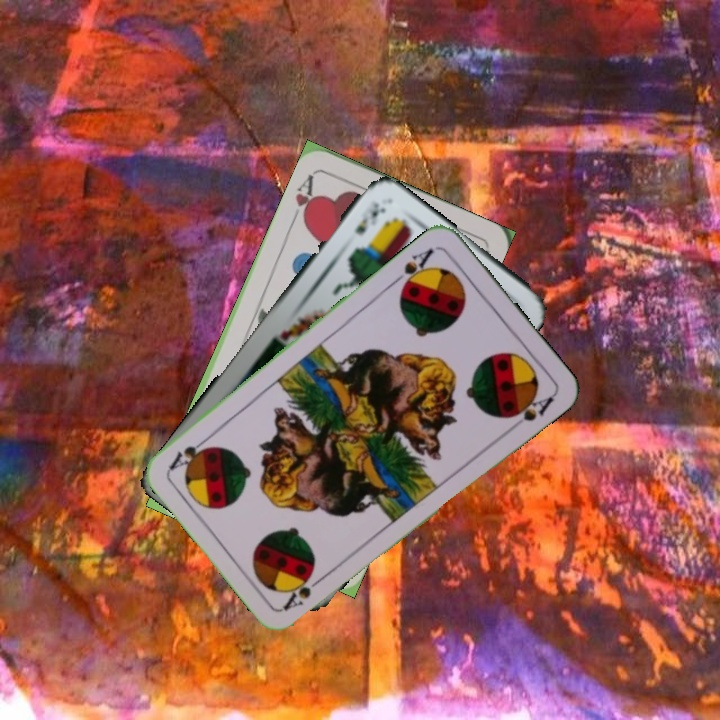EK: (350, 198, 386, 238)
HA: (288, 170, 319, 228)
SA: (389, 244, 436, 294), (279, 570, 329, 614)
